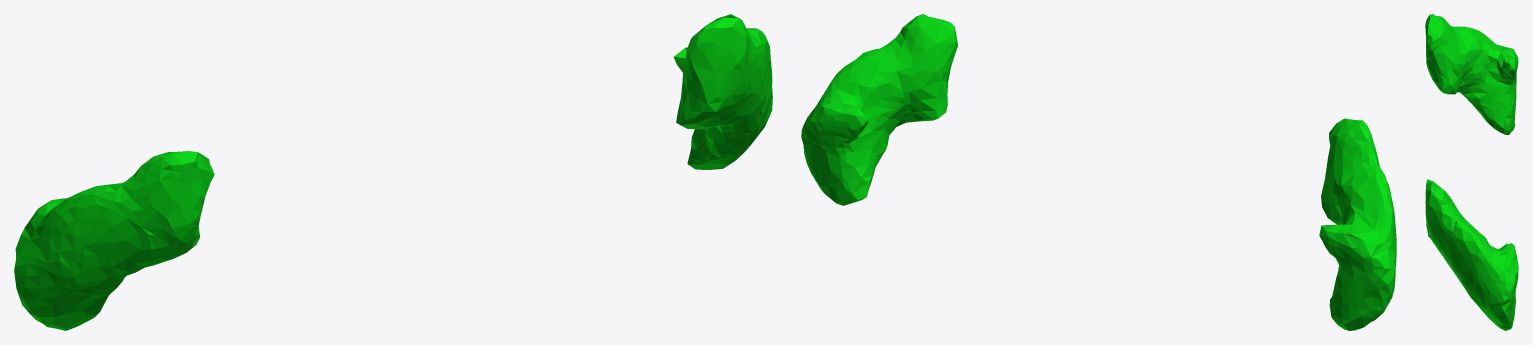
The model's file is 13-47(12)L-area 47 (old 12) of cortex, lateral part-('0.0000', '1.0000', '0.0745').obj.
The picture shows the model from 3 angles, left to right: view 1: azimuth 30°, elevation 25°; view 2: azimuth 150°, elevation 25°; view 3: azimuth 270°, elevation 25°; orthographic projection. The views are drawn at different scales.
Size of the model in its own units: 292 by 78.08 by 50.02.
